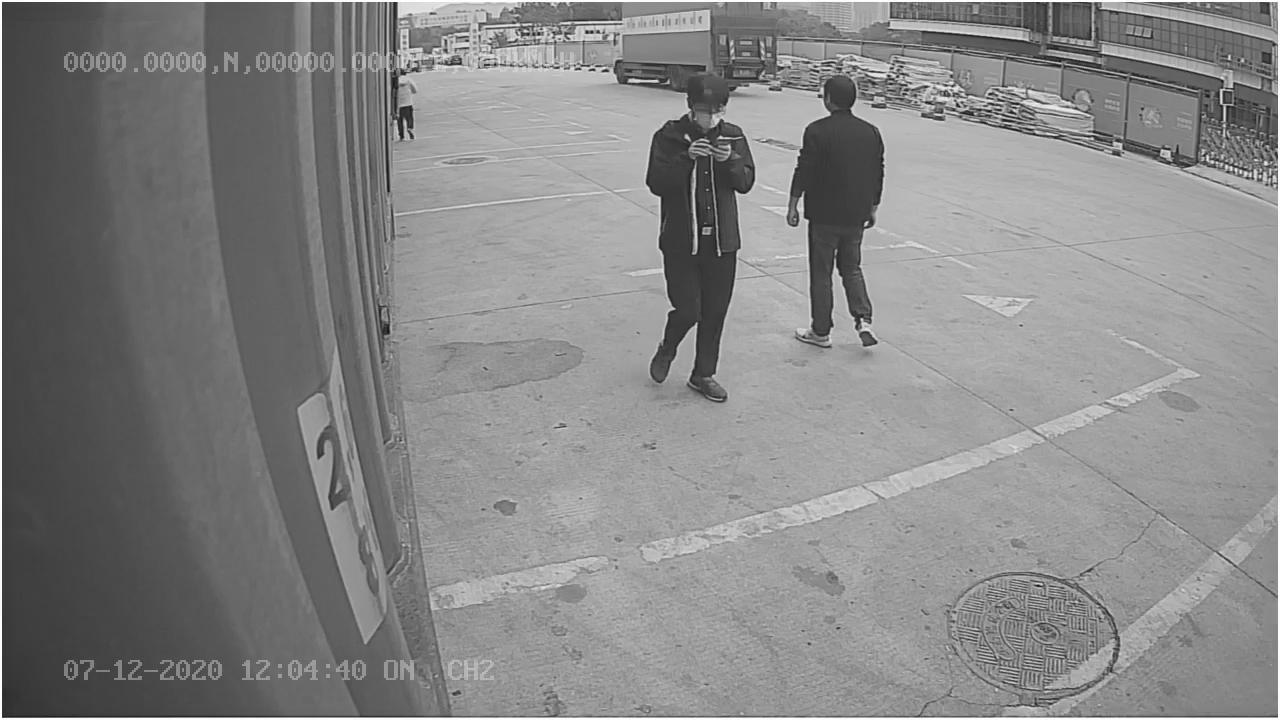person: (785, 72, 888, 348)
